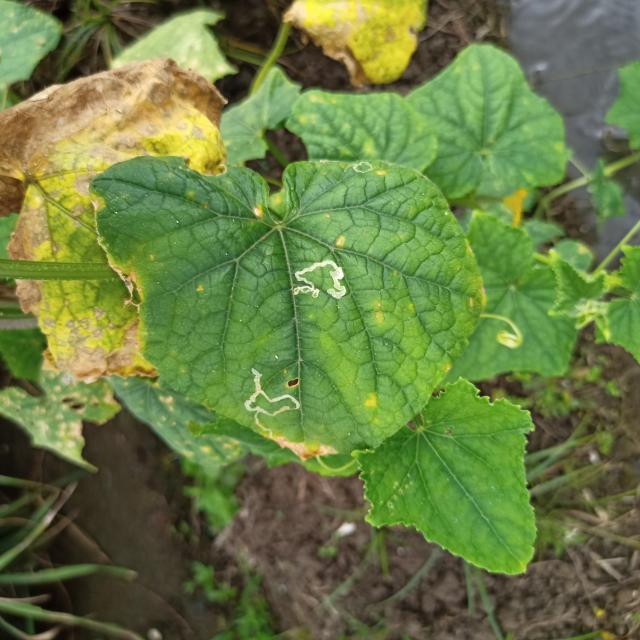disease_cucumber: (468, 280, 491, 314), (364, 390, 382, 422), (372, 297, 390, 329), (250, 203, 268, 221), (334, 234, 350, 250), (196, 284, 206, 294), (377, 168, 386, 178)
